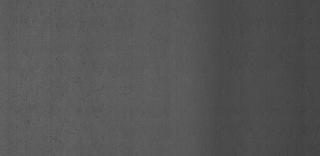silk spot: (27, 26, 113, 114)
